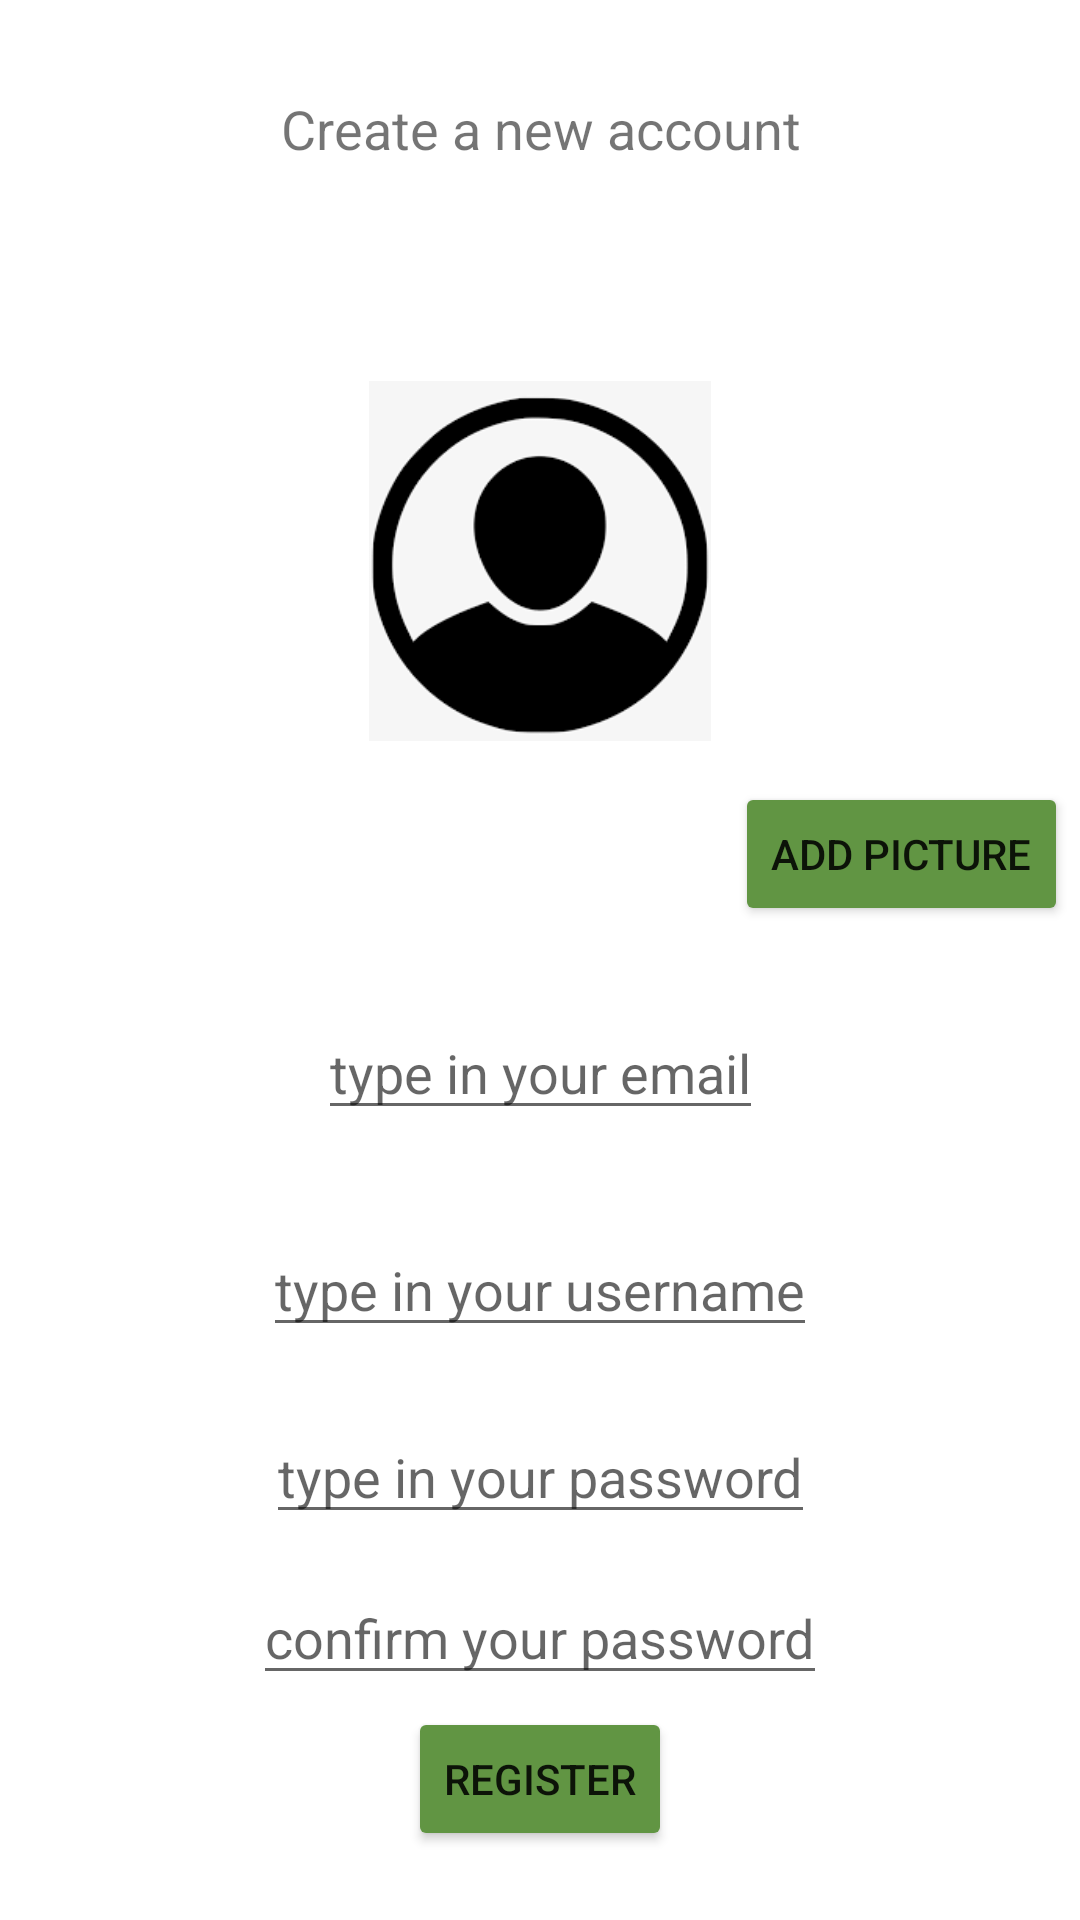

Icons on this 1080 × 1920 Android screen, each with the point to tap as point (x, y):
profileicon: point (540, 565)
